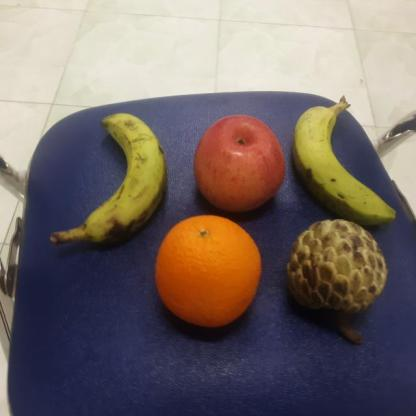annona: (286, 217, 390, 313)
apple: (191, 113, 290, 214)
banana: (291, 103, 400, 225), (87, 110, 168, 245)
orange: (153, 213, 264, 331)
